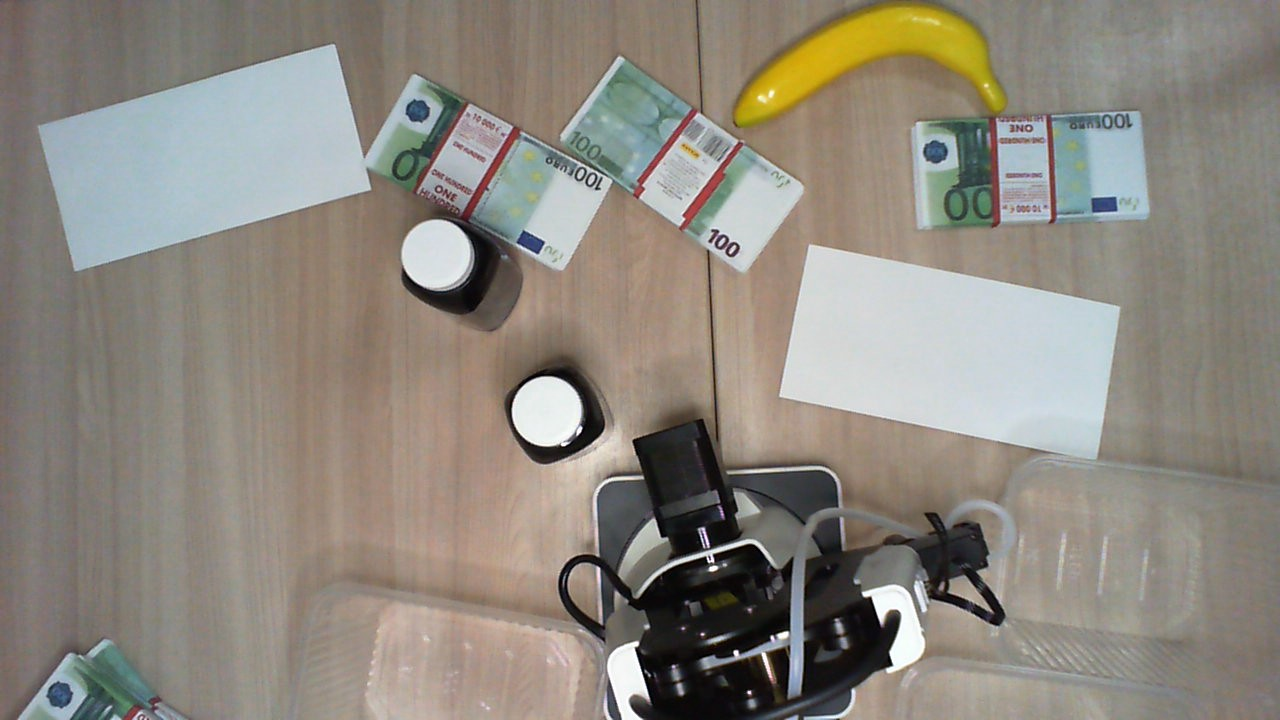banana: (724, 1, 1008, 133)
bottle: (500, 362, 607, 464), (399, 214, 502, 315)
convert: (36, 42, 374, 276), (776, 244, 1121, 462)
money: (563, 56, 804, 270), (367, 71, 609, 264), (911, 110, 1148, 233), (15, 625, 213, 720)
